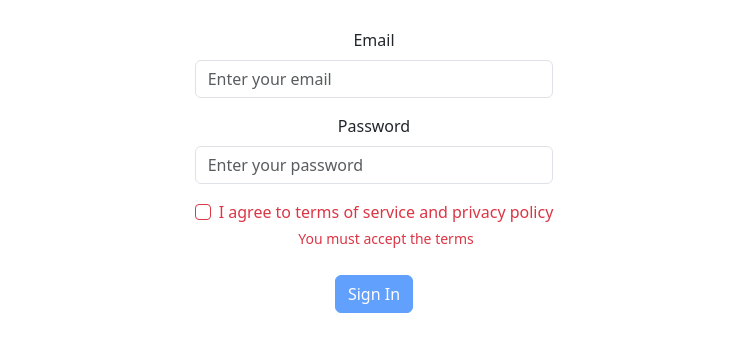
Test: Login Form Success › should display error messages for both email and password and keep the button disabled
Type "invalid-email" into the field named "email". click: (375, 79)
box: [195,60,554,98]
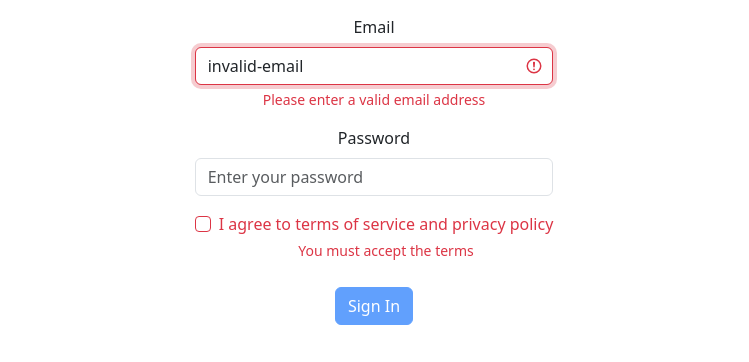
Type "12345" into the password field named "password". click: (375, 177)
box: [195,158,554,196]
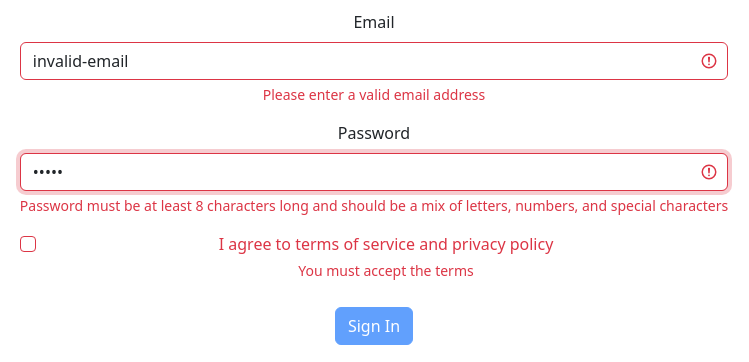
Check the checkbox named "terms". click: (28, 244)
box: [20,236,36,252]
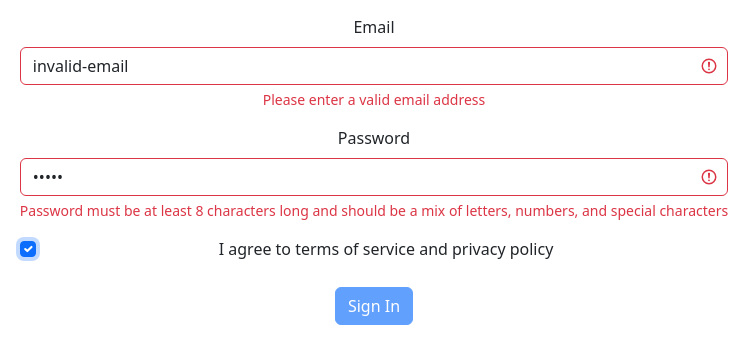
Expected: the text "Please enter a valid email address" is shown, [263,90,485,109]
Expected: the text "Password must be at least 8 characters long" is shown, [20,201,728,220]
Expected: the number of elements with class "invalid-feedback" is 2, [263,90,485,109]; [20,200,728,221]
